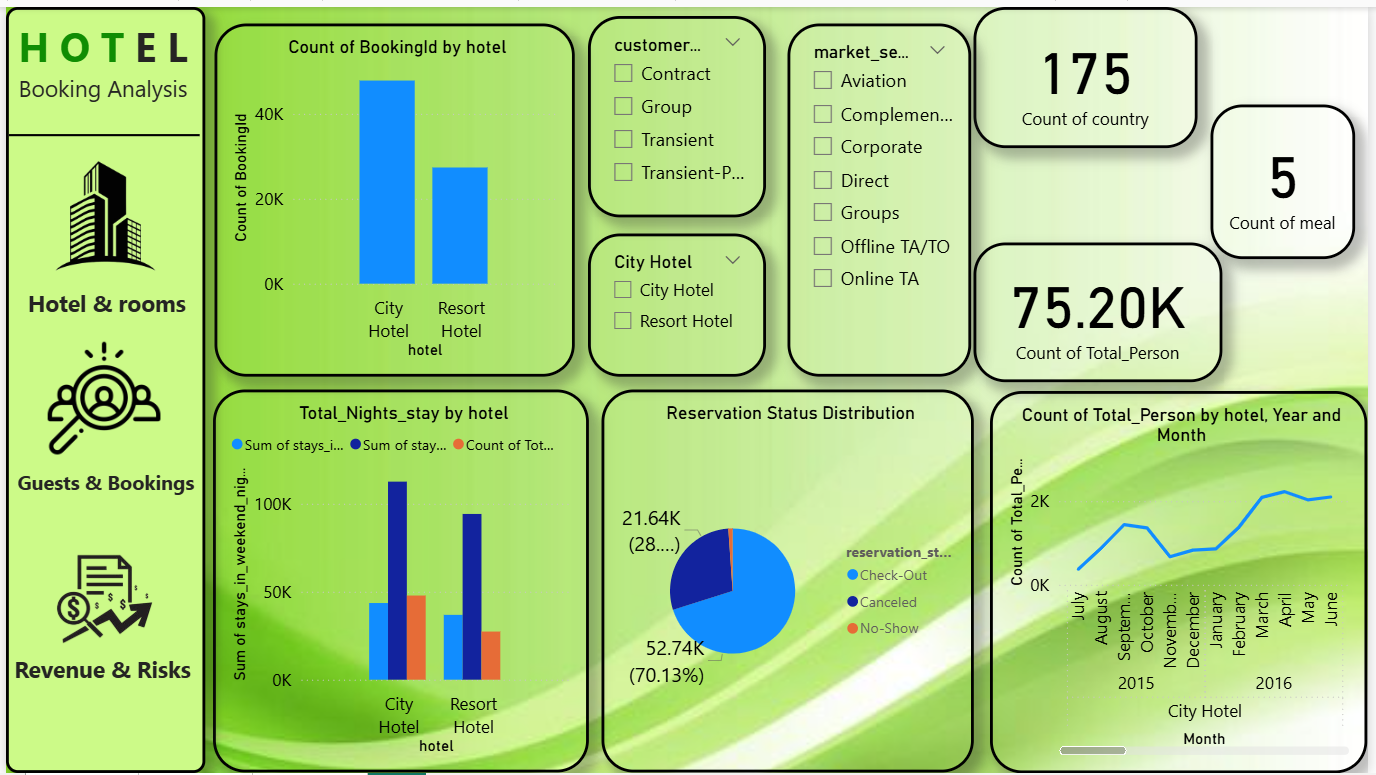

The dashboard page shown, as its layout file describes it:
{"tool":"powerbi","page":{"name":"Page 1","canvas":[1280,720],"ordinal":0},"visuals":[{"type":"columnChart","fields":{"Category":["Hotel Bookings (2).hotel"],"Y":["CountNonNull(Hotel Bookings (2).BookingId)"]},"box":[195.8,14.9,338.5,331.9],"z":0},{"type":"clusteredColumnChart","title":"Total_Nights_stay by hotel","fields":{"Category":["Hotel Bookings (2).hotel"],"Y":["Sum(Hotel Bookings (2).stays_in_weekend_nights)","Sum(Hotel Bookings (2).stays_in_week_nights)","CountNonNull(Hotel Bookings (2).Total_Nights_stay)"]},"box":[194.2,360.1,353.5,360.1],"z":1000},{"type":"slicer","fields":{"Values":["Hotel Bookings (2).hotel"]},"box":[547.6,212.4,167.6,134.4],"z":2000},{"type":"card","fields":{"Values":["Count(Hotel Bookings (2).country)"]},"box":[909.4,0,210.8,132.8],"z":3000},{"type":"card","fields":{"Values":["Count(Hotel Bookings (2).meal)"]},"box":[1131.6,92.2,136,145.4],"z":4000},{"type":"slicer","fields":{"Values":["Hotel Bookings (2).customer_type"]},"box":[547.6,8.3,167.6,189.2],"z":5000},{"type":"slicer","fields":{"Values":["Hotel Bookings (2).market_segment"]},"box":[735.1,14.9,172.6,331.9],"z":6000},{"type":"card","fields":{"Values":["CountNonNull(Hotel Bookings (2).Total_Person)"]},"box":[909.4,220.7,234,131.1],"z":7000},{"type":"textbox","box":[0,0,187.5,720.2],"z":8000},{"type":"pieChart","title":"Reservation Status Distribution","fields":{"Category":["Hotel Bookings (2).reservation_status"],"Y":["CountNonNull(Hotel Bookings (2).hotel)"]},"box":[559.2,360.1,350.1,360.1],"z":9000},{"type":"image","box":[3.3,106.2,180.9,180.9],"z":10000},{"type":"textbox","box":[15.6,257.9,193.8,67.2],"z":11000},{"type":"image","box":[33.2,305.3,116.2,122.8],"z":12000},{"type":"textbox","box":[0,428.3,187.6,64.1],"z":13000},{"type":"image","box":[1.6,461.1,182.9,181.3],"z":14000},{"type":"textbox","box":[3.3,602.4,179.2,53.1],"z":15000},{"type":"shape","box":[3.3,64.7,179.2,111.2],"z":16000},{"type":"lineChart","fields":{"Category":["Hotel Bookings (2).hotel","Hotel Bookings (2).Arrival_Date.Variation.Date Hierarchy.Year","Hotel Bookings (2).Arrival_Date.Variation.Date Hierarchy.Month"],"Y":["CountNonNull(Hotel Bookings (2).Total_Person)"]},"box":[925.3,361.1,354.8,359.5],"z":17000}]}

Visuals, with their boxes in screenshot pixels (x1, y1, x2, y2), scaled from the page's 1280x720 canvas onto the 1376x775 screenshot:
columnChart - Hotel Bookings (2).hotel x CountNonNull(Hotel Bookings (2).BookingId): {"x1": 210, "y1": 16, "x2": 574, "y2": 373}
"Total_Nights_stay by hotel" clusteredColumnChart: {"x1": 209, "y1": 388, "x2": 589, "y2": 774}
slicer - Hotel Bookings (2).hotel: {"x1": 589, "y1": 229, "x2": 769, "y2": 373}
card - Count(Hotel Bookings (2).country): {"x1": 978, "y1": 0, "x2": 1204, "y2": 143}
card - Count(Hotel Bookings (2).meal): {"x1": 1216, "y1": 99, "x2": 1363, "y2": 256}
slicer - Hotel Bookings (2).customer_type: {"x1": 589, "y1": 9, "x2": 769, "y2": 213}
slicer - Hotel Bookings (2).market_segment: {"x1": 790, "y1": 16, "x2": 976, "y2": 373}
card - CountNonNull(Hotel Bookings (2).Total_Person): {"x1": 978, "y1": 238, "x2": 1229, "y2": 379}
textbox: {"x1": 0, "y1": 0, "x2": 202, "y2": 774}
"Reservation Status Distribution" pieChart: {"x1": 601, "y1": 388, "x2": 977, "y2": 774}
image: {"x1": 4, "y1": 114, "x2": 198, "y2": 309}
textbox: {"x1": 17, "y1": 278, "x2": 225, "y2": 350}
image: {"x1": 36, "y1": 329, "x2": 161, "y2": 461}
textbox: {"x1": 0, "y1": 461, "x2": 202, "y2": 530}
image: {"x1": 2, "y1": 496, "x2": 198, "y2": 691}
textbox: {"x1": 4, "y1": 648, "x2": 196, "y2": 706}
shape: {"x1": 4, "y1": 70, "x2": 196, "y2": 189}
lineChart - Hotel Bookings (2).hotel x Hotel Bookings (2).Arrival_Date.Variation.Date Hierarchy.Year: {"x1": 995, "y1": 389, "x2": 1375, "y2": 774}
